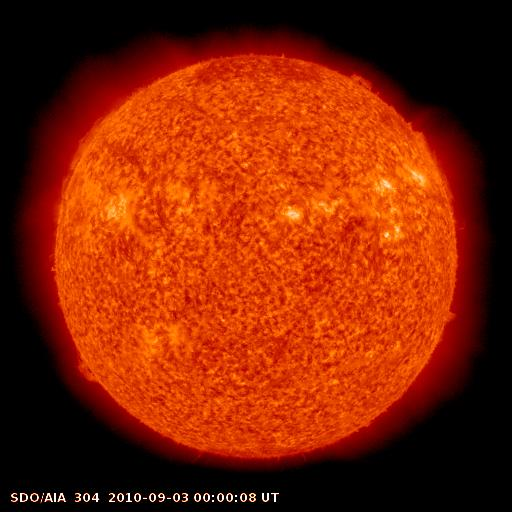prominence: (55, 98, 118, 201), (406, 118, 461, 206), (342, 58, 390, 99), (67, 342, 106, 392), (432, 300, 467, 335)
